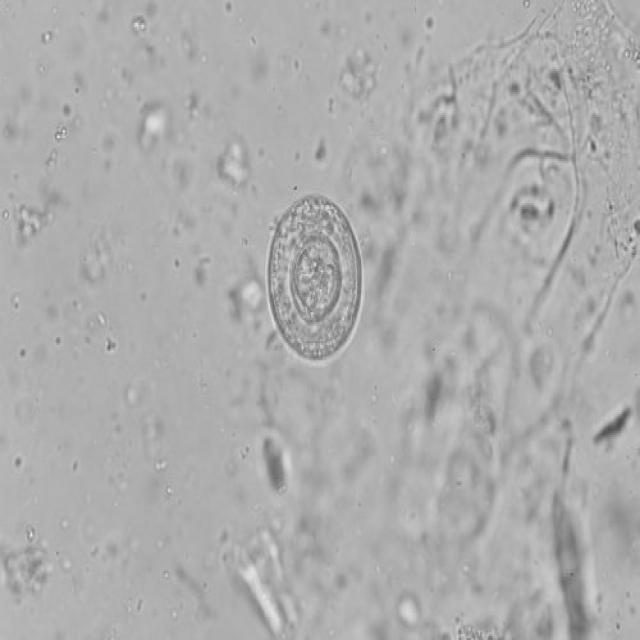Hymenolepis: (265, 185, 365, 371)
